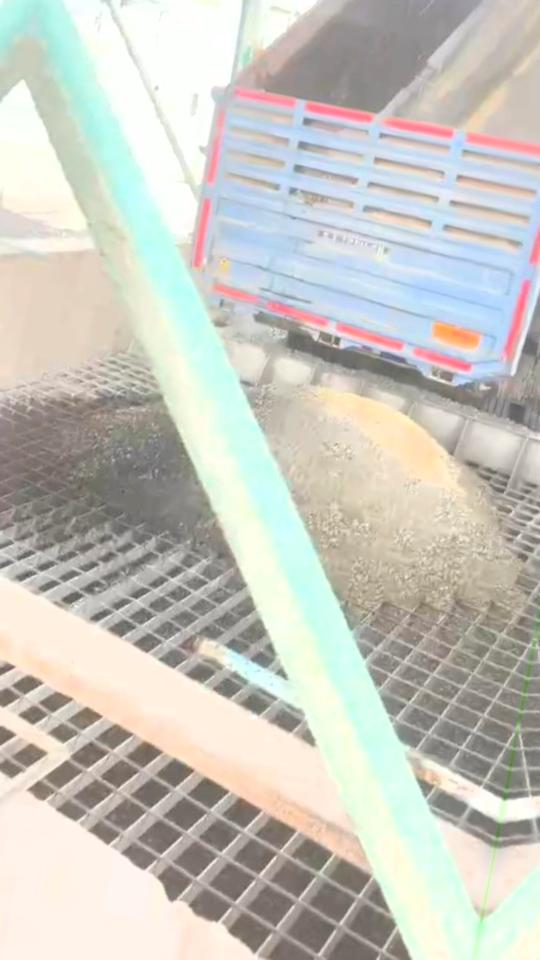gravel: (251, 387, 518, 608), (57, 400, 224, 549)
